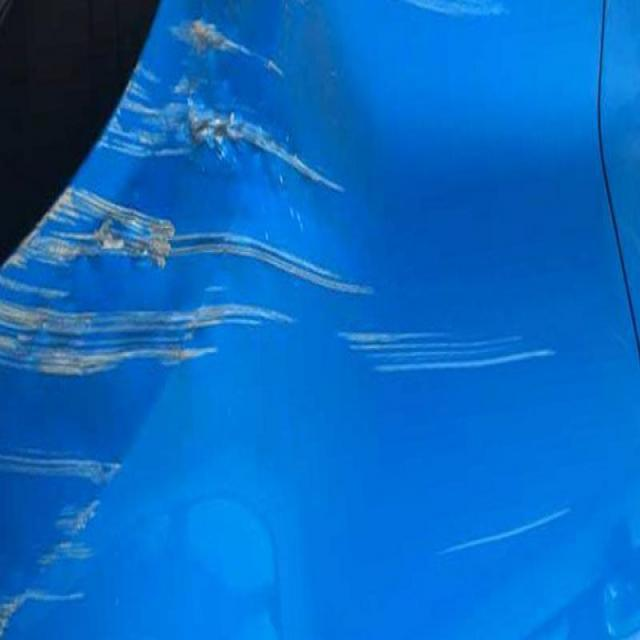scratch: (0, 32, 351, 440), (0, 453, 135, 640), (362, 318, 560, 389), (427, 496, 578, 564)
